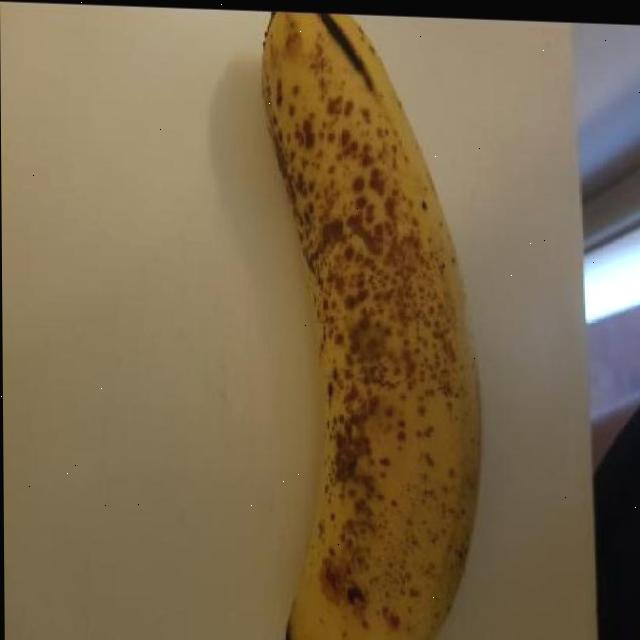banana: (244, 9, 489, 640)
